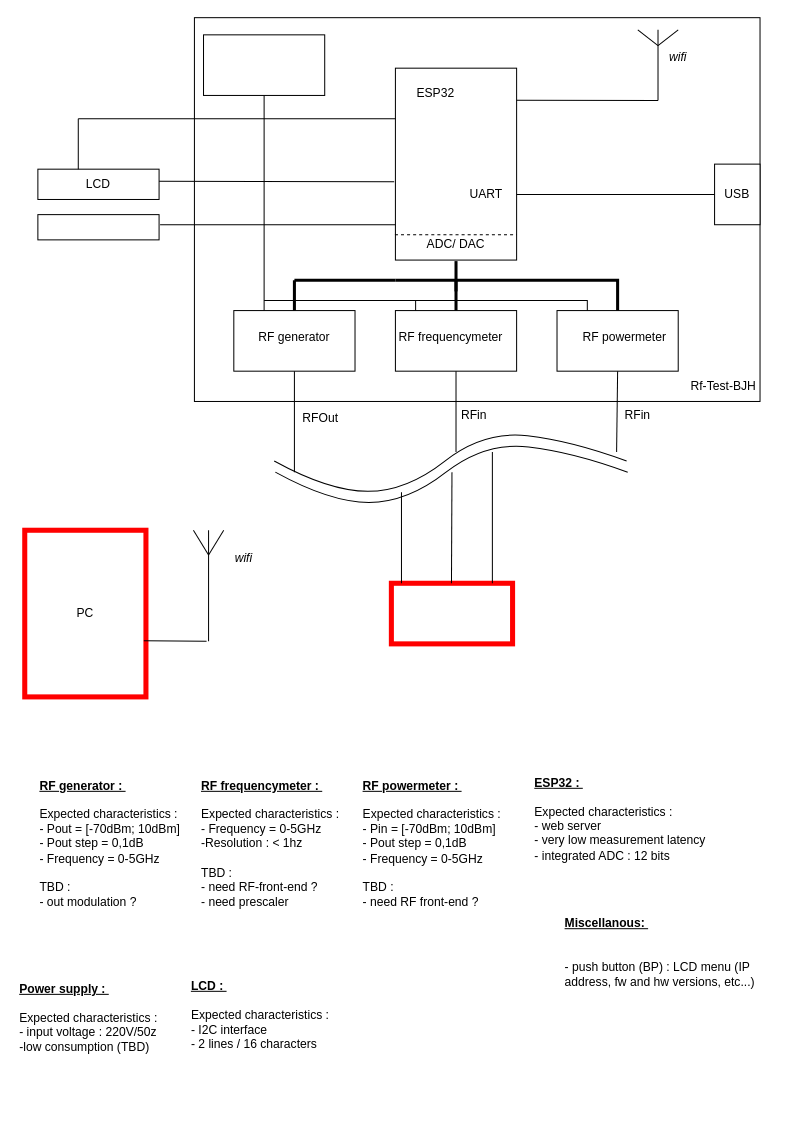
The diagram is 812 pixels wide and 1136 high, and some of its shapes have lost their labels. Each missing label, with the centre of its shape:
"BP" goes at point 98,227.
"DUT" goes at point 451,613.
"Power supply" goes at point 264,64.
